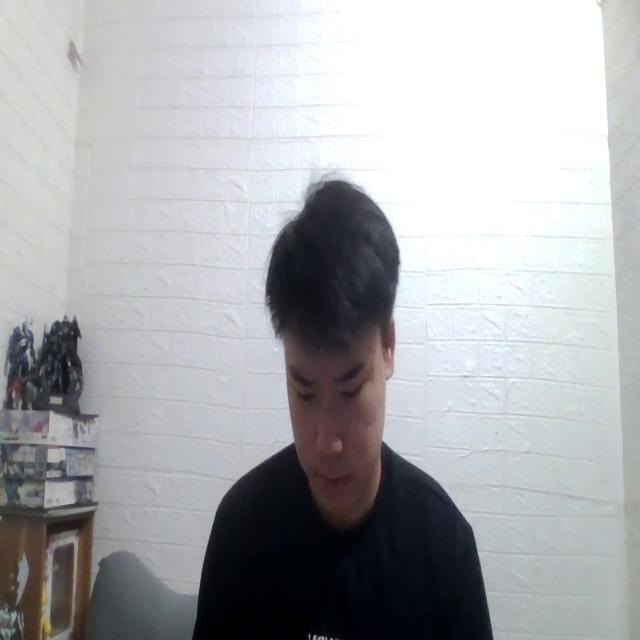student: (202, 170, 493, 640)
